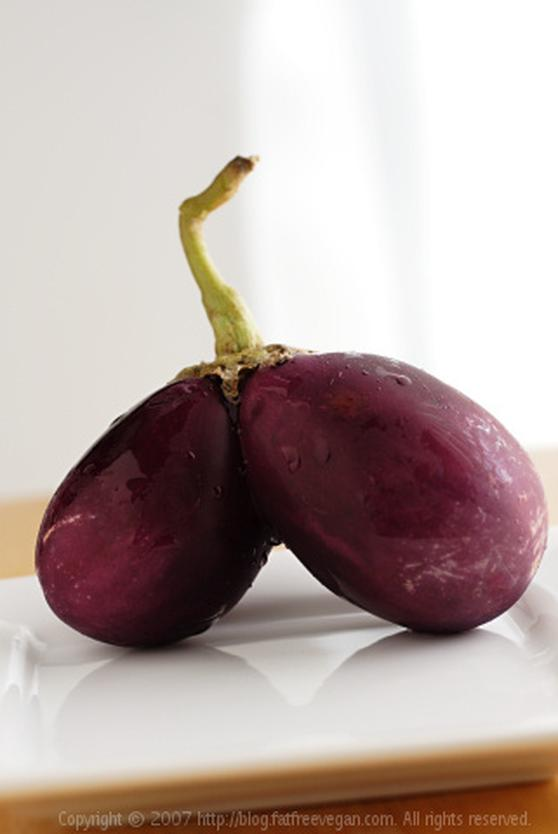eggplant: (244, 331, 554, 631)
